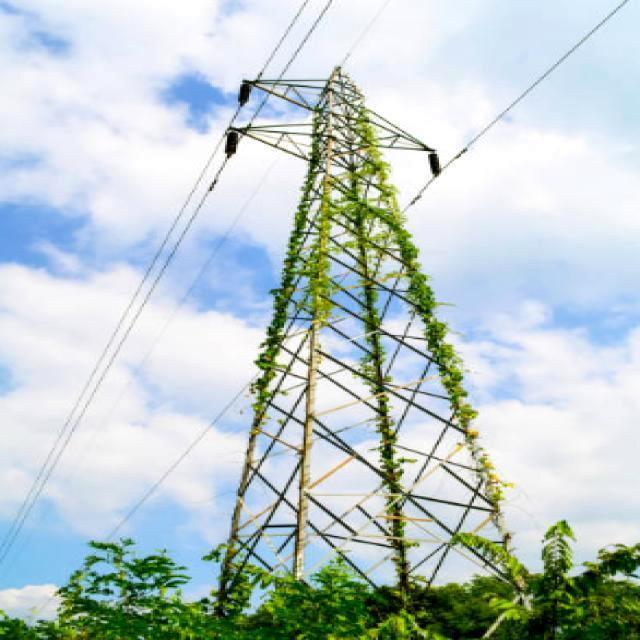critical vegetation: (242, 74, 502, 548)
